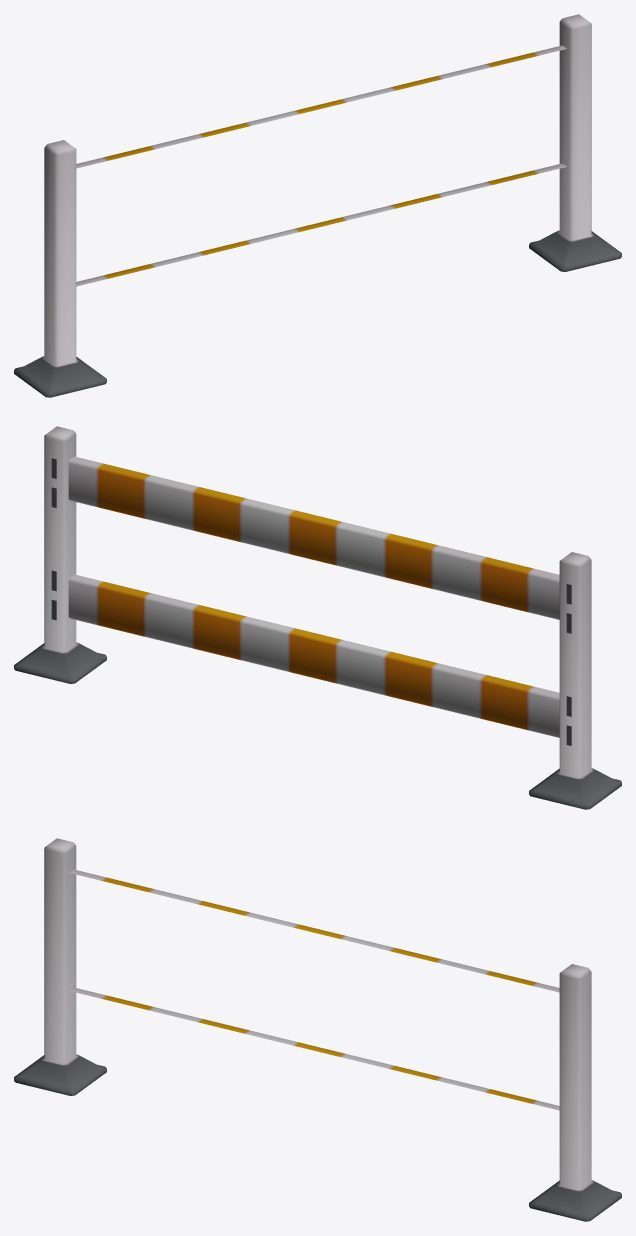
The model's file is RoadWorksBarrier03.glb.
3 views of the same model, one above another, from view 1: azimuth 30°, elevation 25°; view 2: azimuth 150°, elevation 25°; view 3: azimuth 330°, elevation 25° (orthographic).
Visible parts, largest first — view 1: RoadWorksBarrier03; view 2: RoadWorksBarrier03; view 3: RoadWorksBarrier03.
Boxes of the visible parts, left/top/right/bottom form: RoadWorksBarrier03: left=14, top=14, right=621, bottom=397; RoadWorksBarrier03: left=14, top=426, right=621, bottom=809; RoadWorksBarrier03: left=14, top=838, right=621, bottom=1221.
Size of the model in its own units: 4.02 by 1.55 by 0.4257.
